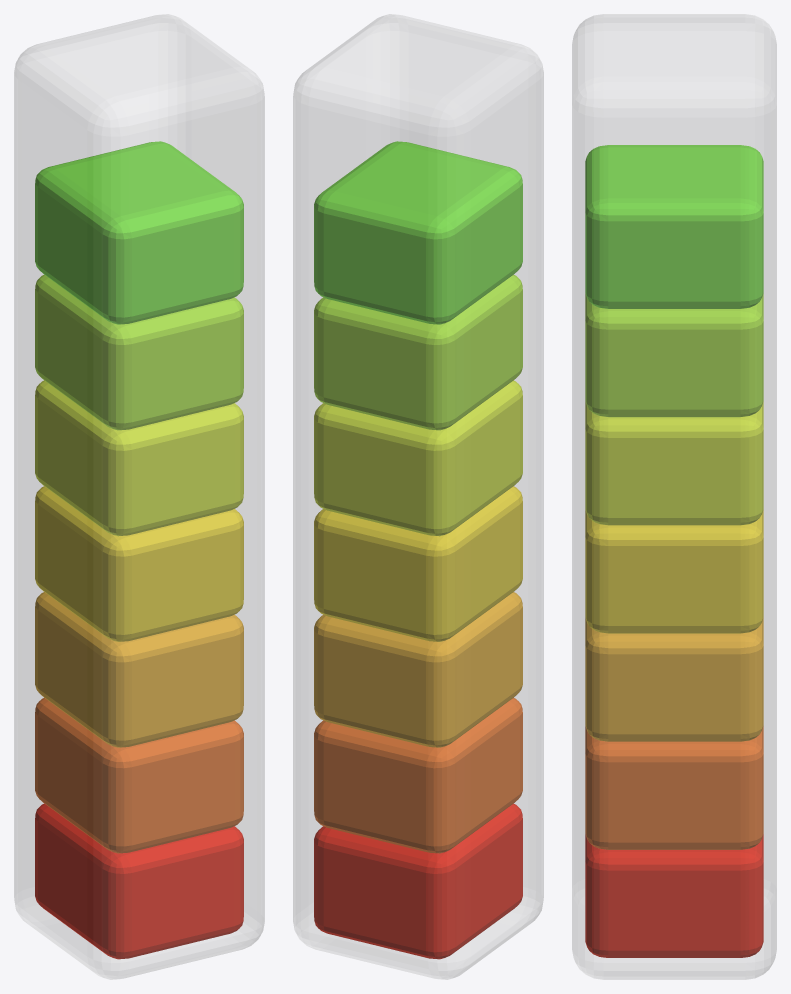
File: ThermGreen.gltf
The picture shows the model from 3 angles, left to right: view 1: azimuth 30°, elevation 25°; view 2: azimuth 150°, elevation 25°; view 3: azimuth 270°, elevation 25°; orthographic projection. The views are drawn at different scales.
Parts seen in each view (by area): view 1: Obudowa, Cube.007, Cube.005, Cube.004, Cube.001, Cube.003, Cube.006, Cube.002; view 2: Obudowa, Cube.007, Cube.005, Cube.001, Cube.004, Cube.003, Cube.006, Cube.002; view 3: Obudowa, Cube.007, Cube.003, Cube.005, Cube.001, Cube.004, Cube.006, Cube.002.
Part boxes in pixels (x1=…): Obudowa: x1=14, y1=14, x2=264, y2=979; Cube.007: x1=35, y1=141, x2=243, y2=324; Cube.005: x1=35, y1=380, x2=243, y2=536; Cube.004: x1=35, y1=486, x2=243, y2=641; Cube.001: x1=35, y1=697, x2=243, y2=853; Cube.003: x1=35, y1=592, x2=243, y2=747; Cube.006: x1=35, y1=274, x2=243, y2=430; Cube.002: x1=35, y1=803, x2=243, y2=959; Obudowa: x1=293, y1=14, x2=543, y2=979; Cube.007: x1=314, y1=141, x2=522, y2=324; Cube.005: x1=314, y1=380, x2=522, y2=536; Cube.001: x1=314, y1=697, x2=522, y2=853; Cube.004: x1=314, y1=486, x2=522, y2=641; Cube.003: x1=314, y1=592, x2=522, y2=747; Cube.006: x1=314, y1=274, x2=522, y2=430; Cube.002: x1=314, y1=803, x2=522, y2=959; Obudowa: x1=572, y1=14, x2=776, y2=979; Cube.007: x1=585, y1=145, x2=763, y2=308; Cube.003: x1=585, y1=618, x2=763, y2=741; Cube.005: x1=585, y1=401, x2=763, y2=525; Cube.001: x1=585, y1=726, x2=763, y2=849; Cube.004: x1=585, y1=510, x2=763, y2=633; Cube.006: x1=585, y1=293, x2=763, y2=417; Cube.002: x1=585, y1=834, x2=763, y2=957.
Size of the model in its own units: 0.2 by 0.9697 by 0.2.
